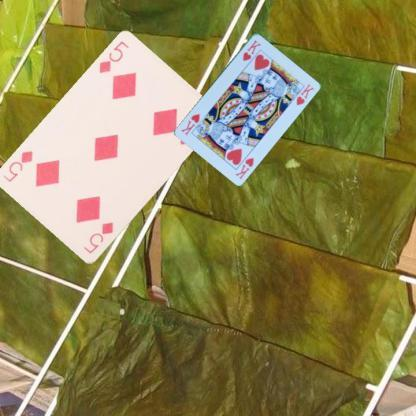5d: (80, 220, 115, 256), (96, 39, 130, 75)
Kh: (233, 155, 256, 180), (240, 37, 262, 62)
